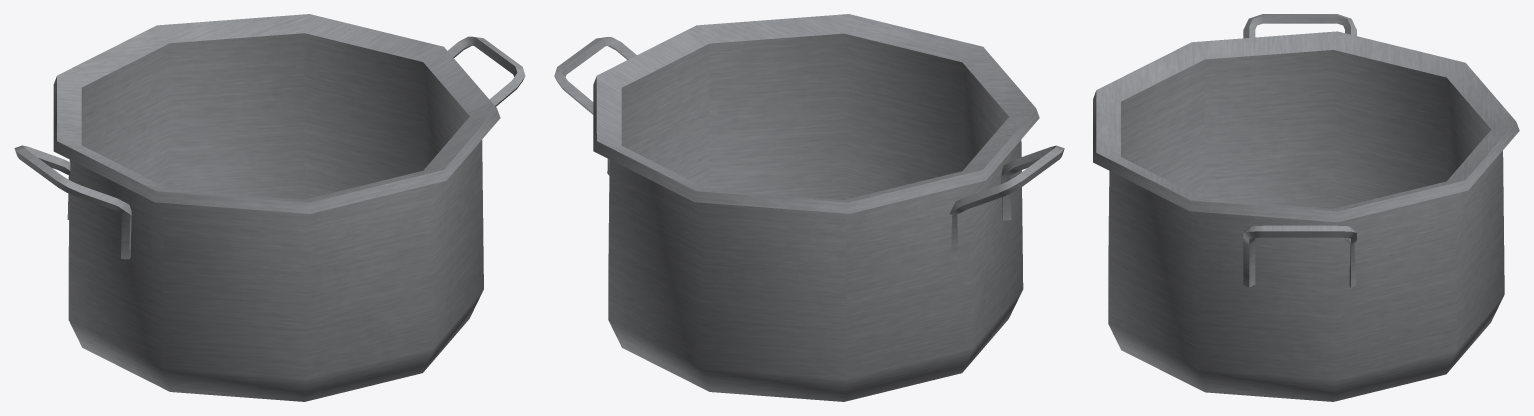
The model's file is Cooking_pot_01.glb.
The picture shows the model from 3 angles, left to right: view 1: azimuth 30°, elevation 25°; view 2: azimuth 150°, elevation 25°; view 3: azimuth 270°, elevation 25°; orthographic projection. The views are drawn at different scales.
Parts seen in each view (by area): view 1: Cooking_pot_01; view 2: Cooking_pot_01; view 3: Cooking_pot_01.
Boxes of the visible parts, left/top/right/bottom form: Cooking_pot_01: left=14, top=14, right=525, bottom=401; Cooking_pot_01: left=554, top=14, right=1064, bottom=401; Cooking_pot_01: left=1093, top=14, right=1519, bottom=401.
Bounding box in the file's own units: 0.4355 × 0.1998 × 0.3615.
1 material, 1 textured.
